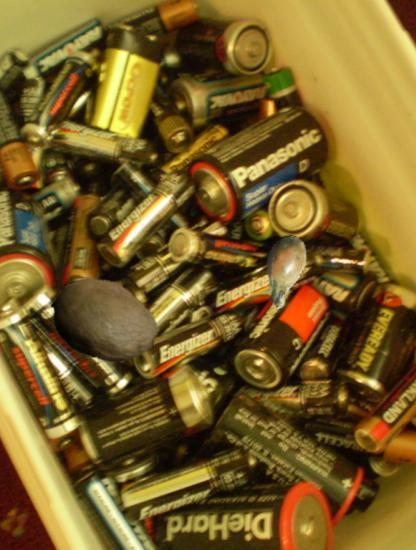Cactus: (246, 234, 321, 309)
Papaya: (52, 270, 158, 376)
